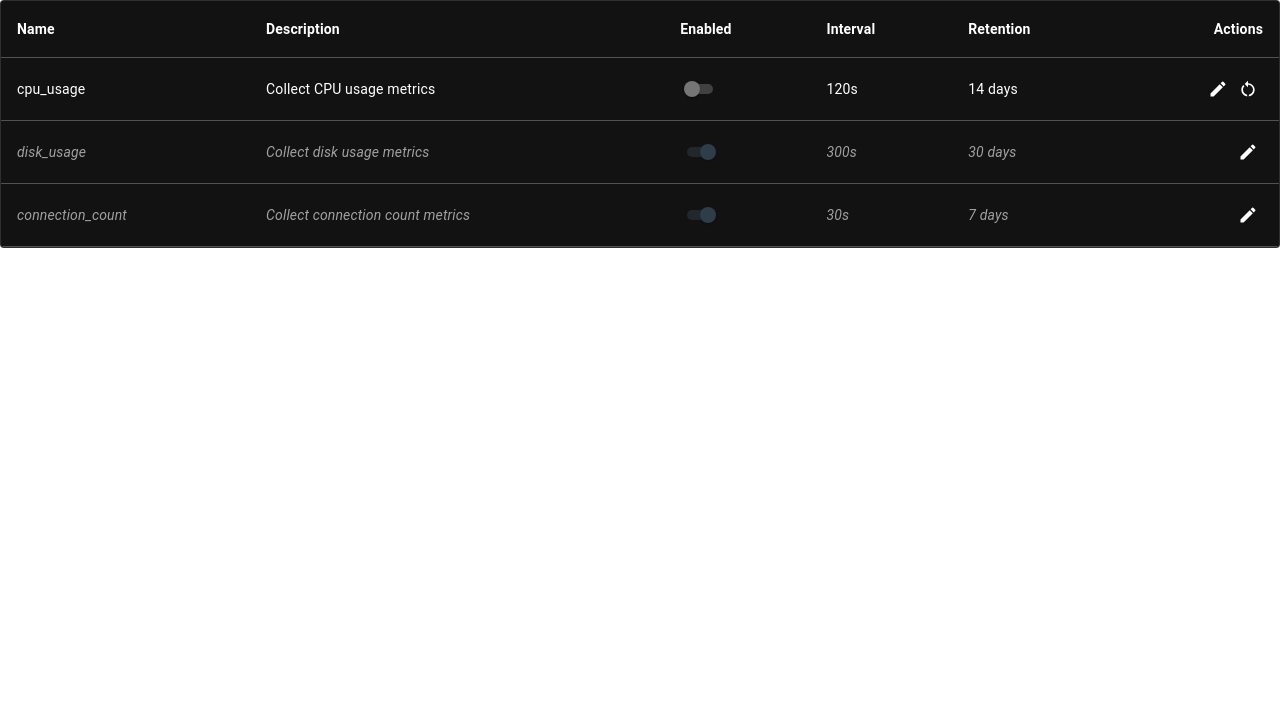
Test: ProbeOverridesPanel › rejects non-numeric interval input on save
This screenshot has width=1280, height=720.
expect the text "cpu_usage" is shown: met, box [1,58,250,120]
Click the button named "edit override" in the row of "cpu_usage": (1218, 89) [1203,74,1233,104]
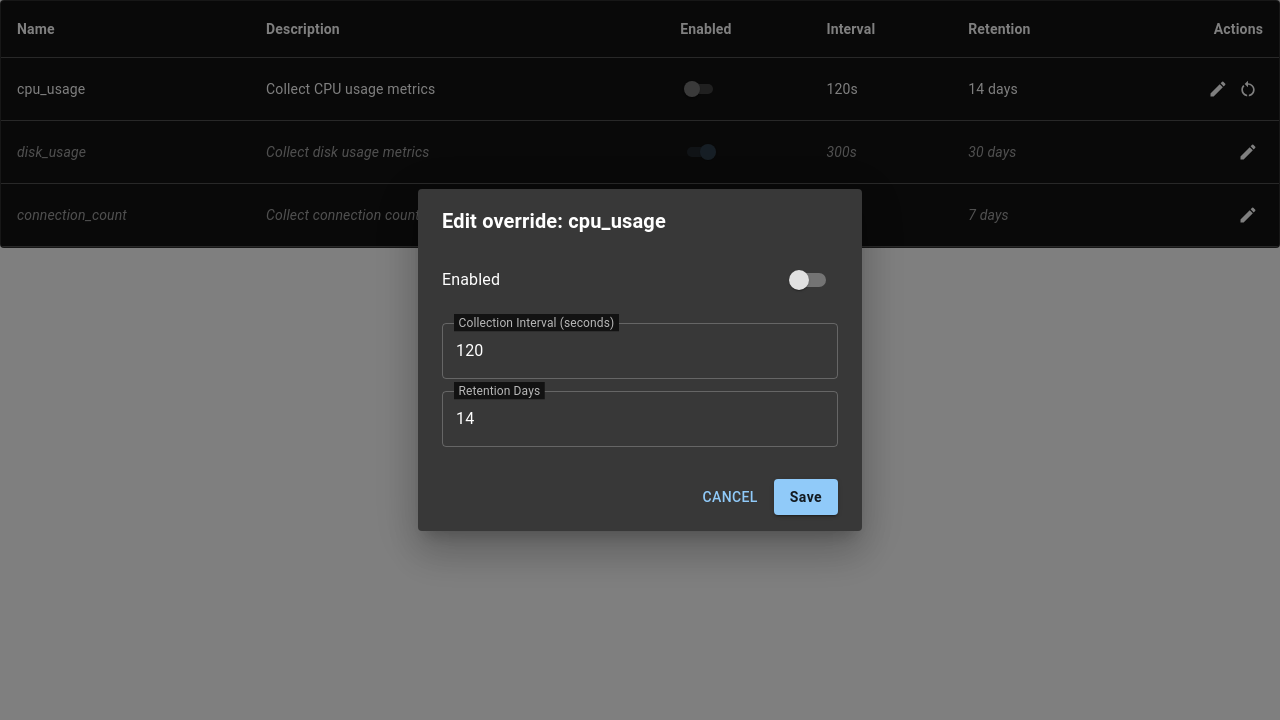
expect the heading "Edit override: cpu_usage" is shown: met, box [442,209,666,233]
Replace the text in the number field labelled "Collection Interval (seconds)" with "0": (640, 351) [442,323,838,379]
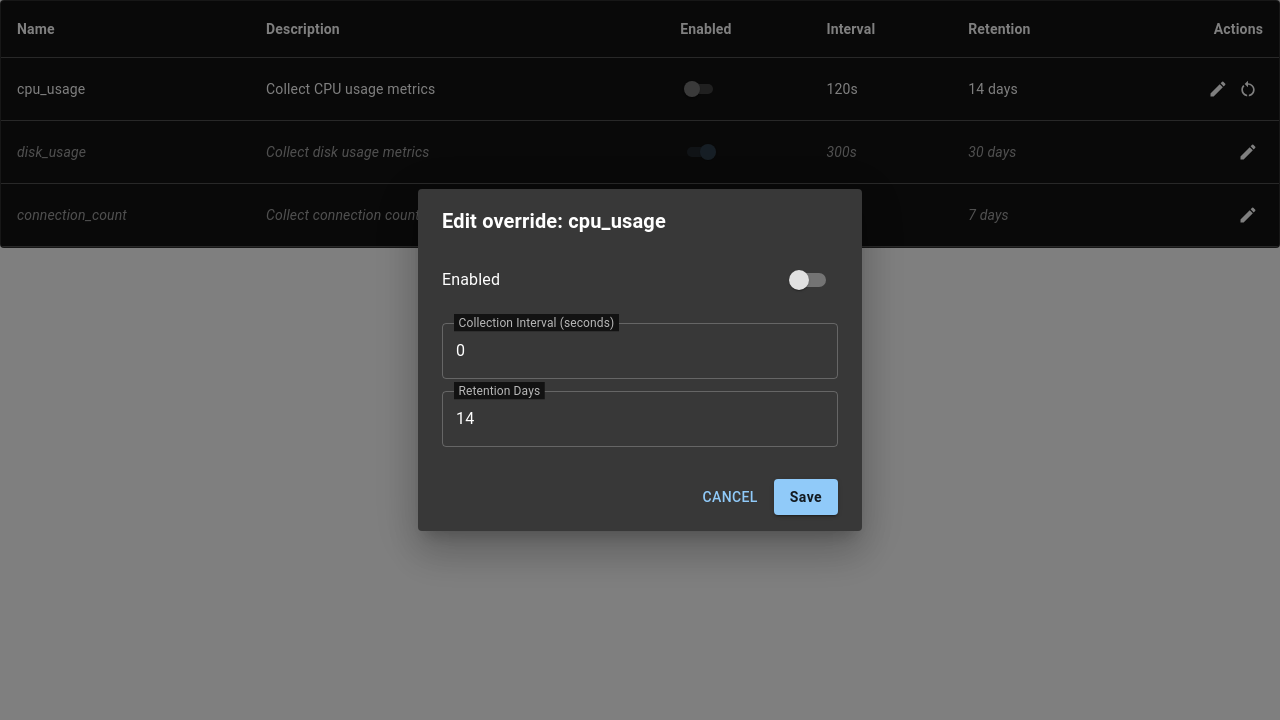
Click the button "Save": (806, 497) [774,479,838,515]
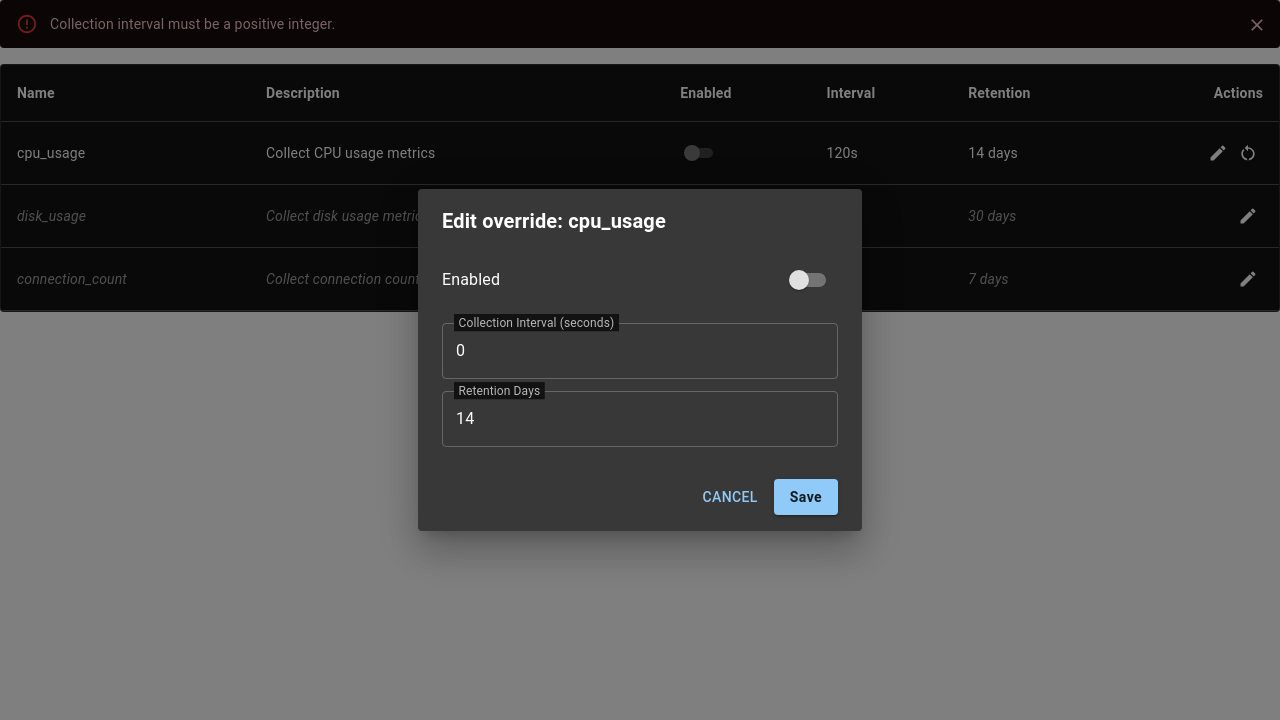
expect the text "Collection interval must be a positive integer." is shown: met, box [50,16,335,32]
